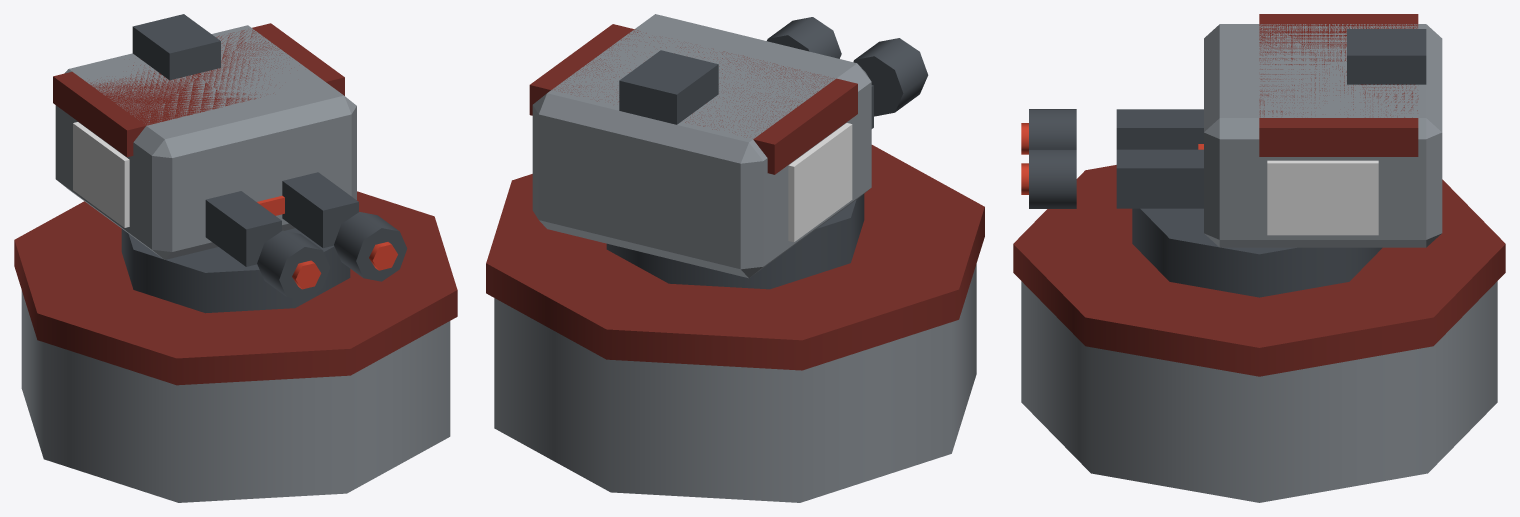
3 renders of one model, left to right at view 1: azimuth 30°, elevation 25°; view 2: azimuth 150°, elevation 25°; view 3: azimuth 270°, elevation 25°, orthographic. The views are drawn at different scales.
Parts seen in each view (by area): view 1: garde_building_turret_laser; view 2: garde_building_turret_laser; view 3: garde_building_turret_laser.
Boxes of the visible parts, <box> form: garde_building_turret_laser: <box>14,14,457,502</box>; garde_building_turret_laser: <box>486,14,984,502</box>; garde_building_turret_laser: <box>1013,14,1505,502</box>.
Bounding box in the file's own units: 3.1 × 2.5 × 3.1.
